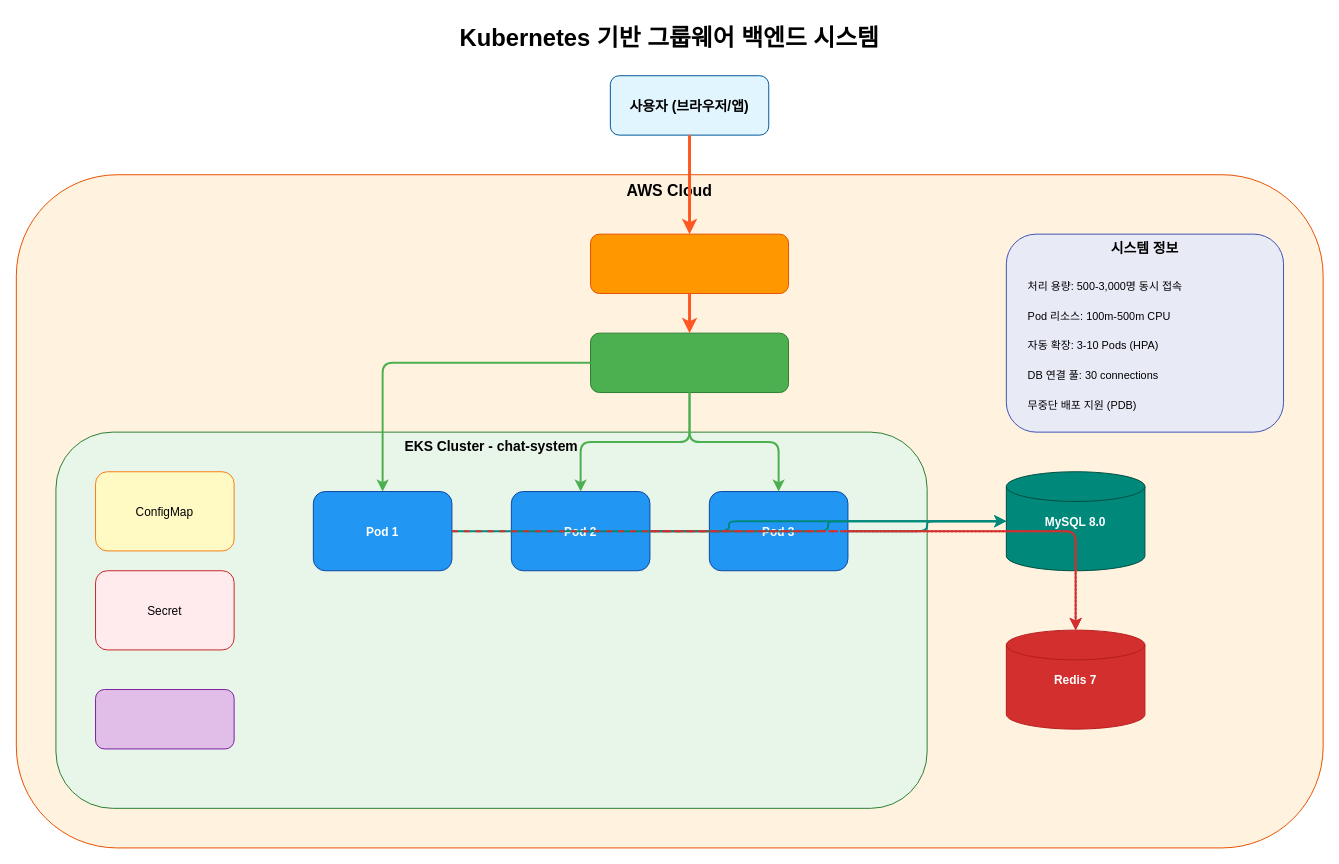
The diagram is 1339 pixels wide and 864 high, and some of its shapes have lost their labels. Here are the shapes that lost their labels. From the top down, the centre of each, then its label:
(689,263): AWS ALB
(689,362): Kubernetes Service (LoadBalancer)
(164,719): HPA (3-10 Pods)
